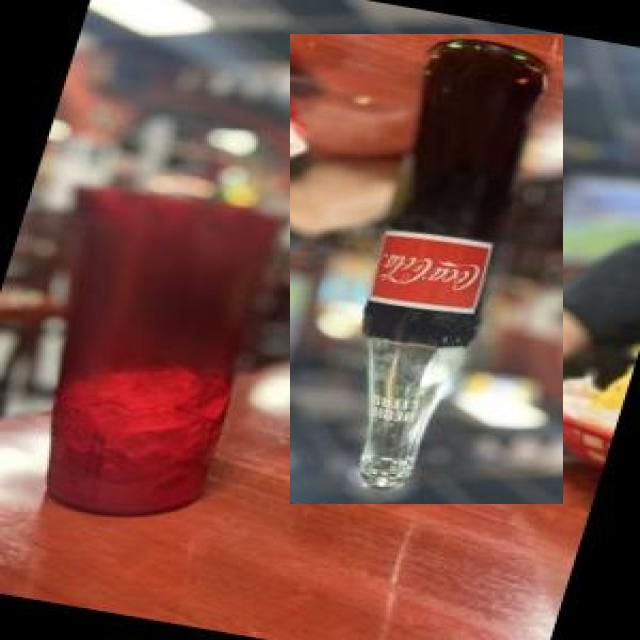coca-cola: (290, 34, 563, 504)
